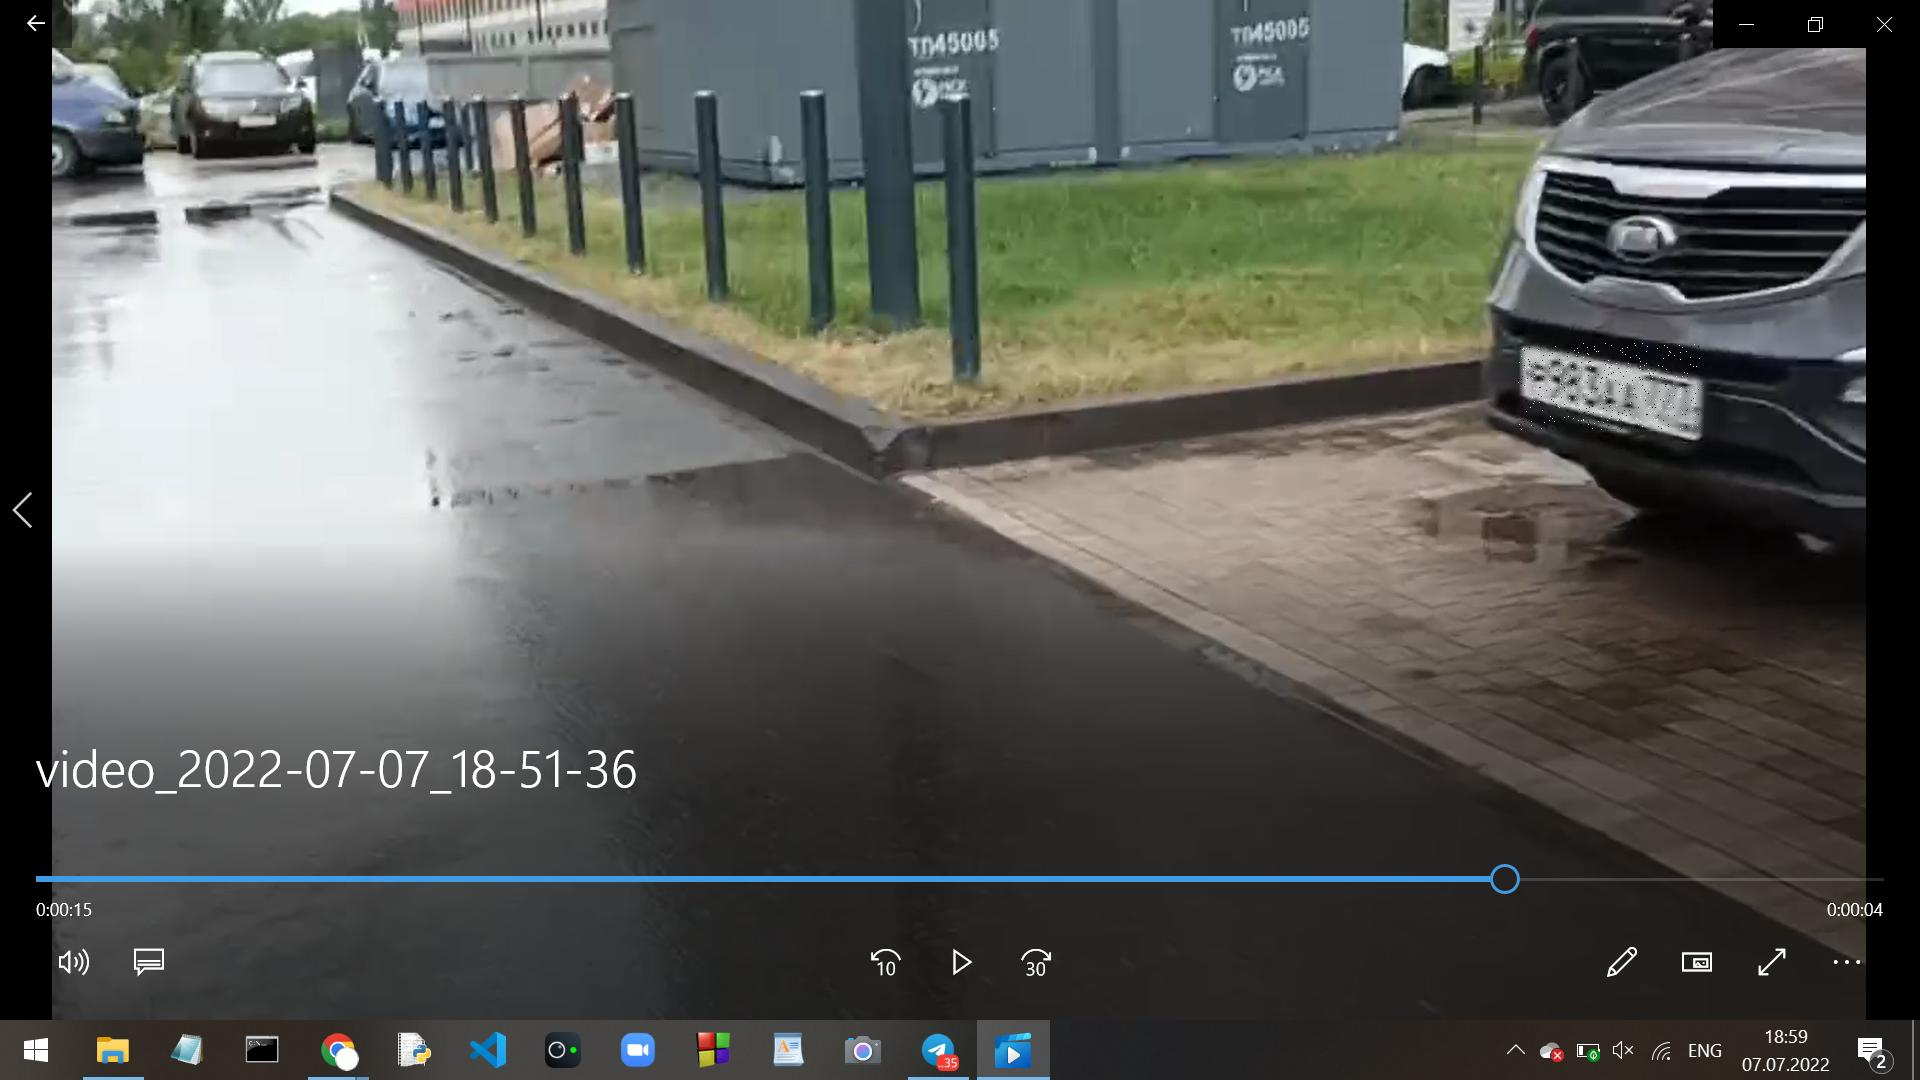plate: (1519, 345, 1702, 432)
